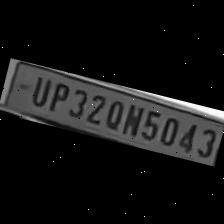0: (154, 111, 180, 147)
2: (82, 89, 108, 126)
3: (63, 82, 90, 120), (192, 120, 218, 158)
4: (173, 116, 200, 154)
5: (136, 104, 163, 142)
N: (118, 100, 144, 138)
P: (43, 77, 72, 114)
Q: (100, 94, 126, 132)
U: (25, 71, 52, 108)
